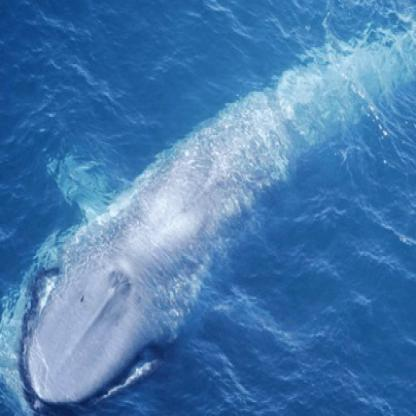blue_whale: (13, 65, 349, 414)
